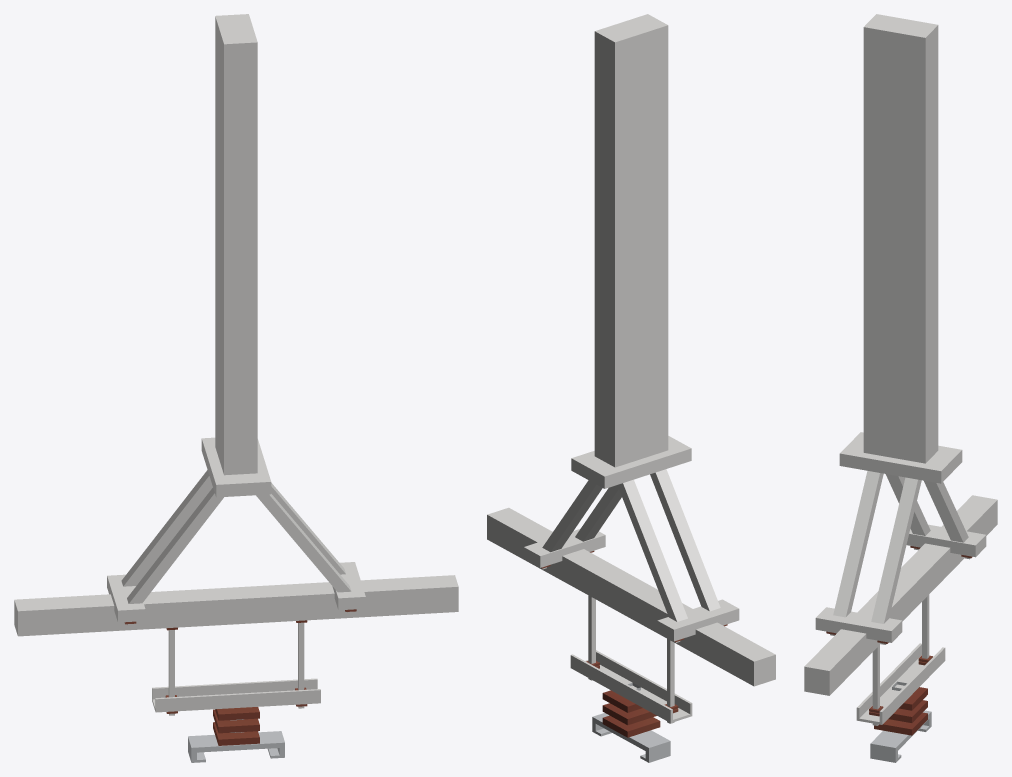
Rendered from catenary_rigid_end_p_r.obj.
The picture shows the model from 3 angles, left to right: view 1: azimuth 30°, elevation 25°; view 2: azimuth 150°, elevation 25°; view 3: azimuth 270°, elevation 25°; orthographic projection.
Parts seen in each view (by area): view 1: rigid_catenary_node.002; view 2: rigid_catenary_node.002; view 3: rigid_catenary_node.002.
Part boxes in pixels (x1,y1,x2,y2): rigid_catenary_node.002: (14, 14, 458, 762); rigid_catenary_node.002: (487, 14, 775, 762); rigid_catenary_node.002: (804, 14, 997, 762).
Bounding box in the file's own units: 0.9478 × 1.8 × 0.4404.
Materials: 1 (1 with a texture image).
